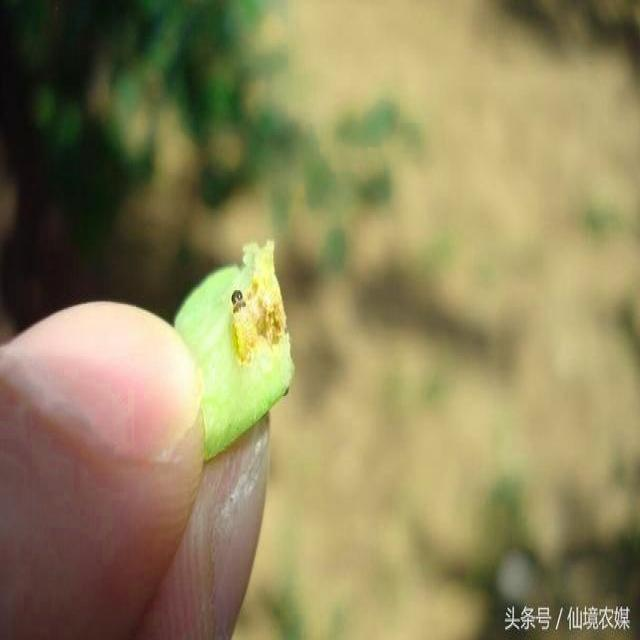peach borer: (226, 285, 268, 368)
